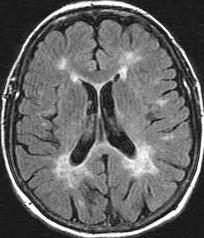Normal_Brain: (1, 1, 204, 238)
